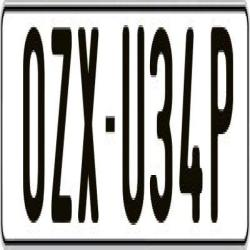0: (21, 27, 42, 232)
3: (150, 28, 174, 234)
4: (177, 23, 203, 221)
P: (210, 27, 232, 223)
U: (123, 18, 145, 227)
X: (76, 27, 97, 223)
Z: (50, 25, 72, 221)
